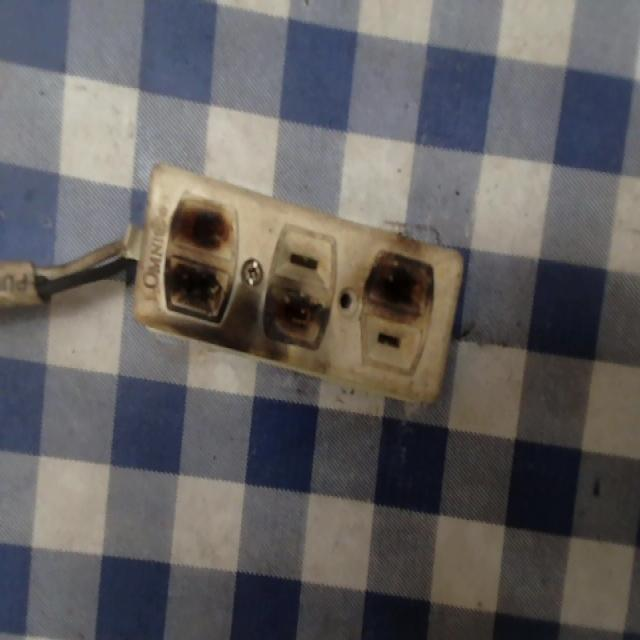-: (152, 178, 250, 338), (361, 227, 436, 332), (257, 272, 330, 361)
